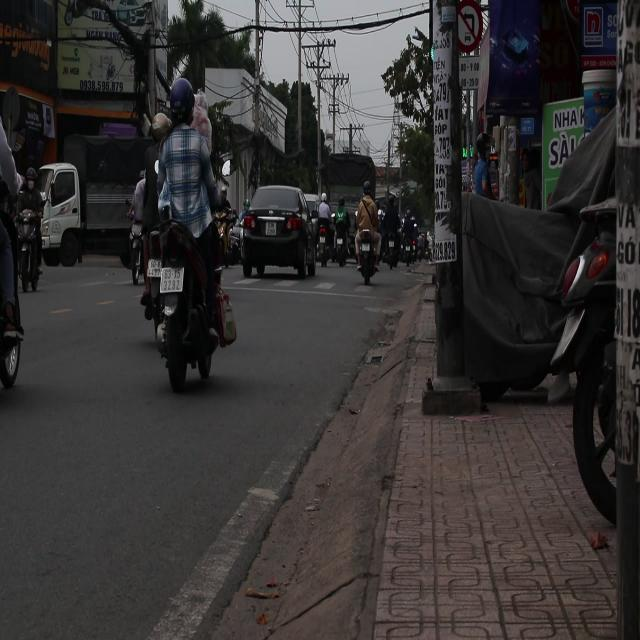car: (239, 184, 322, 282)
motorbike: (143, 214, 221, 388), (357, 223, 381, 281), (315, 221, 334, 269)
truck: (48, 133, 156, 265), (318, 152, 377, 224)
